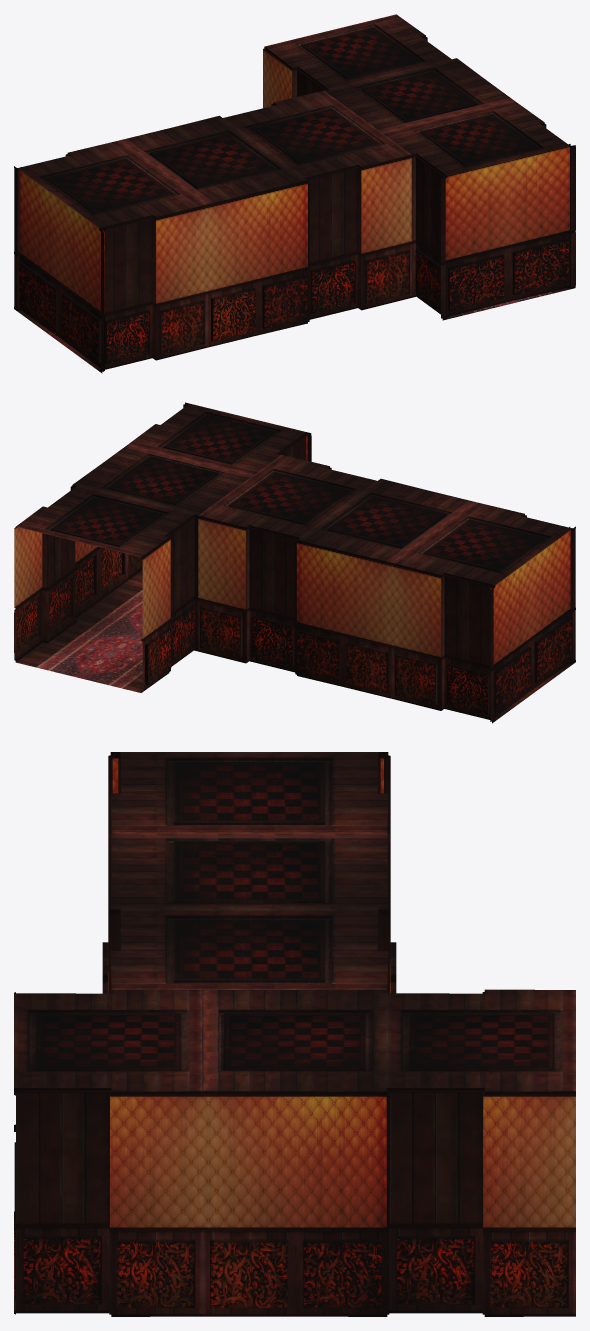
Rendered from HallSplitEnd.FBX.
The picture shows the model from 3 angles, top to bottom: view 1: azimuth 30°, elevation 25°; view 2: azimuth 150°, elevation 25°; view 3: azimuth 270°, elevation 25°; orthographic projection. The views are drawn at different scales.
Parts seen in each view (by area): view 1: HallEnd01; view 2: HallEnd01; view 3: HallEnd01.
Boxes of the visible parts, x1,y1,x2,y2 form: HallEnd01: [14, 14, 575, 373]; HallEnd01: [14, 402, 575, 723]; HallEnd01: [14, 752, 575, 1316].
Bounding box in the file's own units: 219 × 67.09 × 152.
